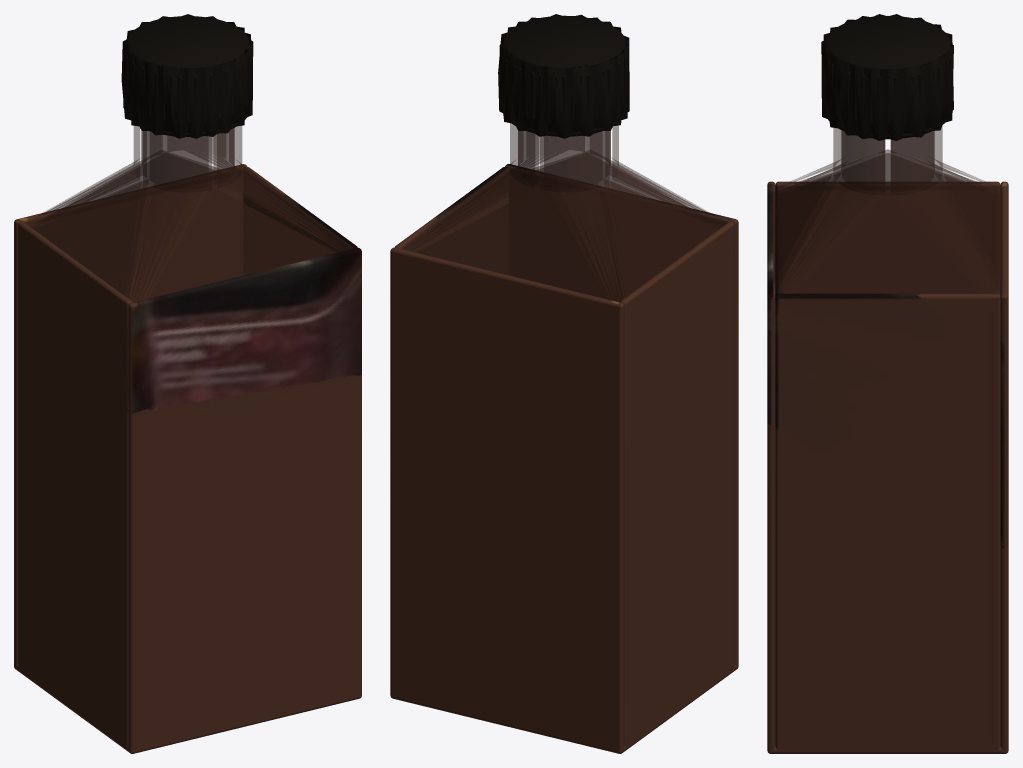
3 views of the same model, side by side, from view 1: azimuth 30°, elevation 25°; view 2: azimuth 150°, elevation 25°; view 3: azimuth 270°, elevation 25° (orthographic). The views are drawn at different scales.
Visible parts, largest first — view 1: body_wall_1, body_wall_3, hollow square-to-neck shoulder, body_wall_2, removable closure, body_wall_4, body_wall_0; view 2: body_wall_2, body_wall_3, hollow square-to-neck shoulder, body_wall_1, removable closure, body_wall_4, body_wall_0; view 3: body_wall_4, hollow square-to-neck shoulder, body_wall_3, removable closure, body_wall_2, body_wall_1, body_wall_0.
Part boxes in pixels (box(x1,y1,x2,y2)): body_wall_1: box(128, 247, 361, 753); body_wall_3: box(18, 222, 132, 749); hollow square-to-neck shoulder: box(29, 126, 347, 301); body_wall_2: box(14, 164, 247, 666); removable closure: box(121, 14, 253, 138); body_wall_4: box(243, 167, 357, 274); body_wall_0: box(14, 665, 361, 752); body_wall_2: box(390, 247, 624, 753); body_wall_3: box(620, 221, 734, 746); hollow square-to-neck shoulder: box(404, 123, 723, 301); body_wall_1: box(505, 164, 738, 667); removable closure: box(498, 14, 629, 138); body_wall_4: box(394, 166, 509, 274); body_wall_0: box(391, 665, 738, 753); body_wall_4: box(775, 293, 1000, 750); hollow square-to-neck shoulder: box(773, 126, 1002, 293); body_wall_3: box(775, 181, 1000, 296); removable closure: box(821, 14, 953, 140); body_wall_2: box(1000, 181, 1008, 752); body_wall_1: box(767, 181, 775, 752); body_wall_0: box(767, 747, 1008, 753).
Bounding box in the file's own units: 0.068 × 0.18 × 0.06.
7 materials, 5 textured.
